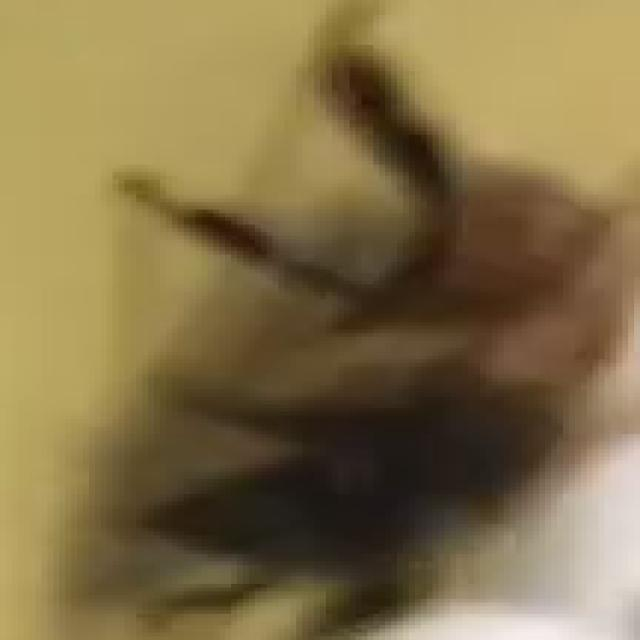honeybee: (158, 77, 640, 640)
